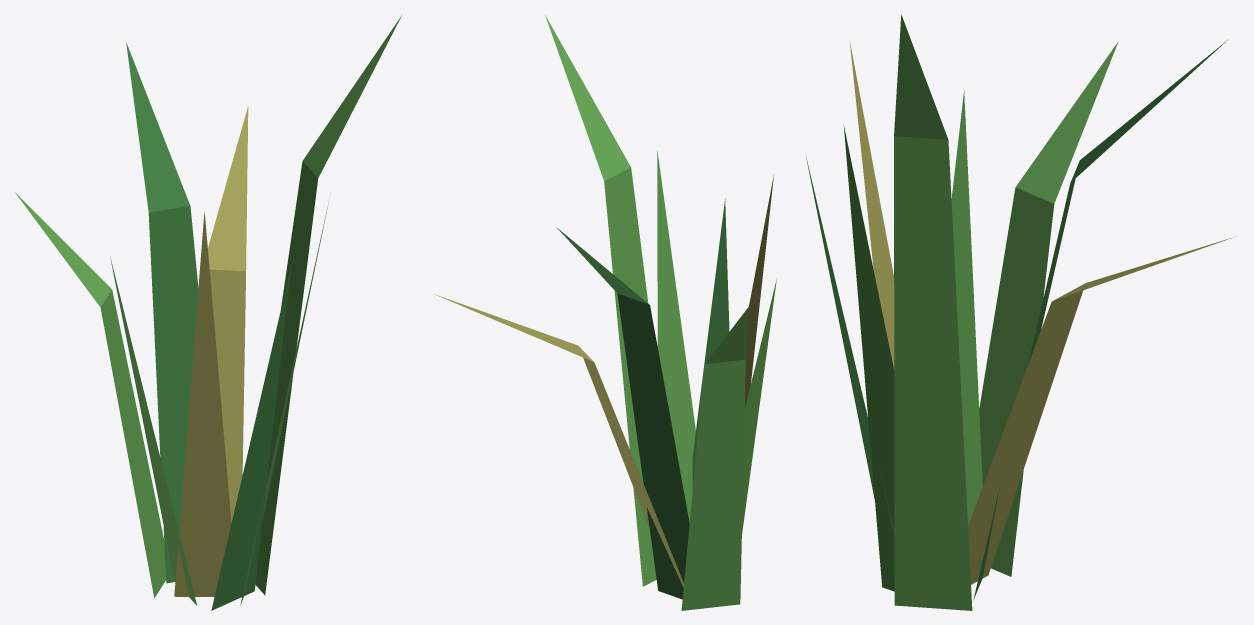
The model's file is grass_tall.glb.
The picture shows the model from 3 angles, left to right: view 1: azimuth 30°, elevation 25°; view 2: azimuth 150°, elevation 25°; view 3: azimuth 270°, elevation 25°; orthographic projection. The views are drawn at different scales.
Visible parts, largest first — view 1: grass_tall__mesh; view 2: grass_tall__mesh; view 3: grass_tall__mesh.
Part boxes in pixels (bbox=[...]): grass_tall__mesh: bbox=[15, 15, 401, 610]; grass_tall__mesh: bbox=[434, 15, 776, 610]; grass_tall__mesh: bbox=[805, 15, 1236, 610].
Size of the model in its own units: 0.4639 by 0.804 by 0.4685.
1 material, 1 textured.
